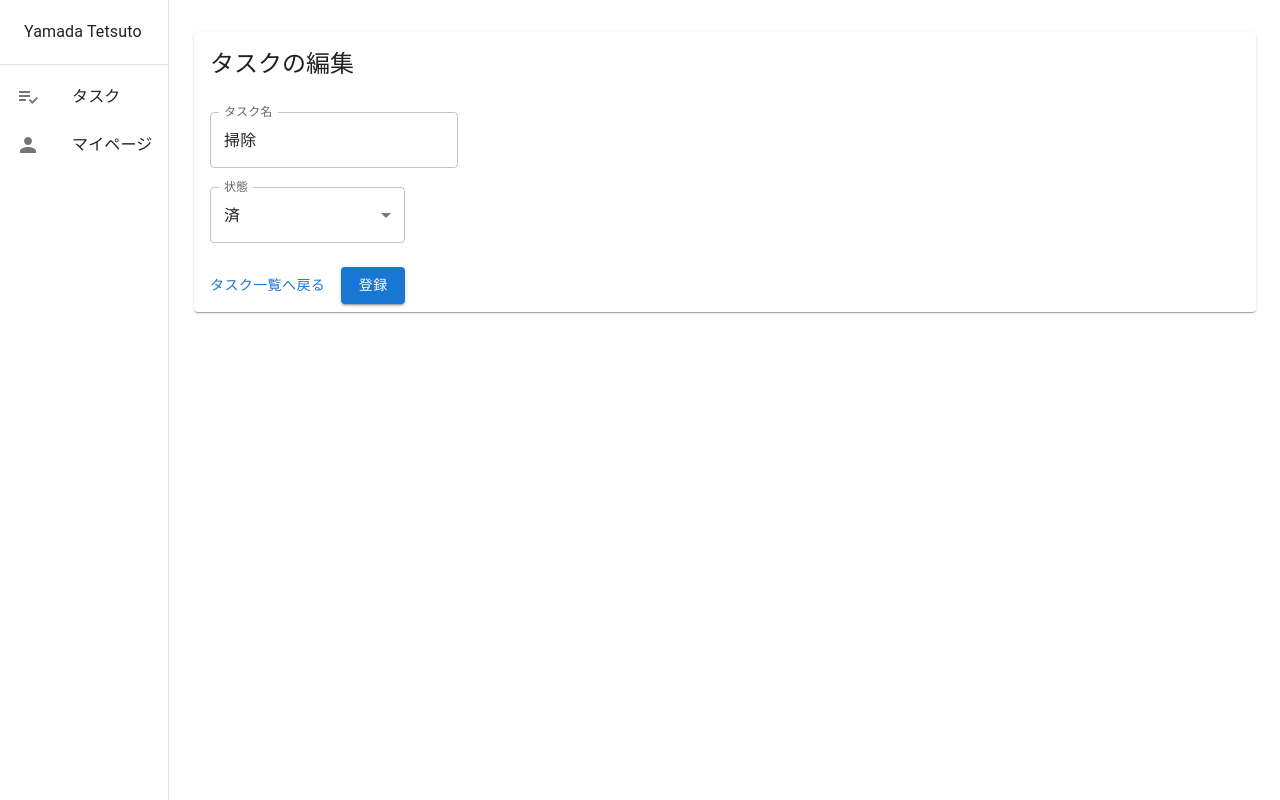
Test: TaskUpdate › 登録失敗したら、エラーが表示される
Replace the text in the field with test id "TaskUpdateName" with "家計簿をつける" at {"x": 334, "y": 140}, box [210, 112, 458, 168]
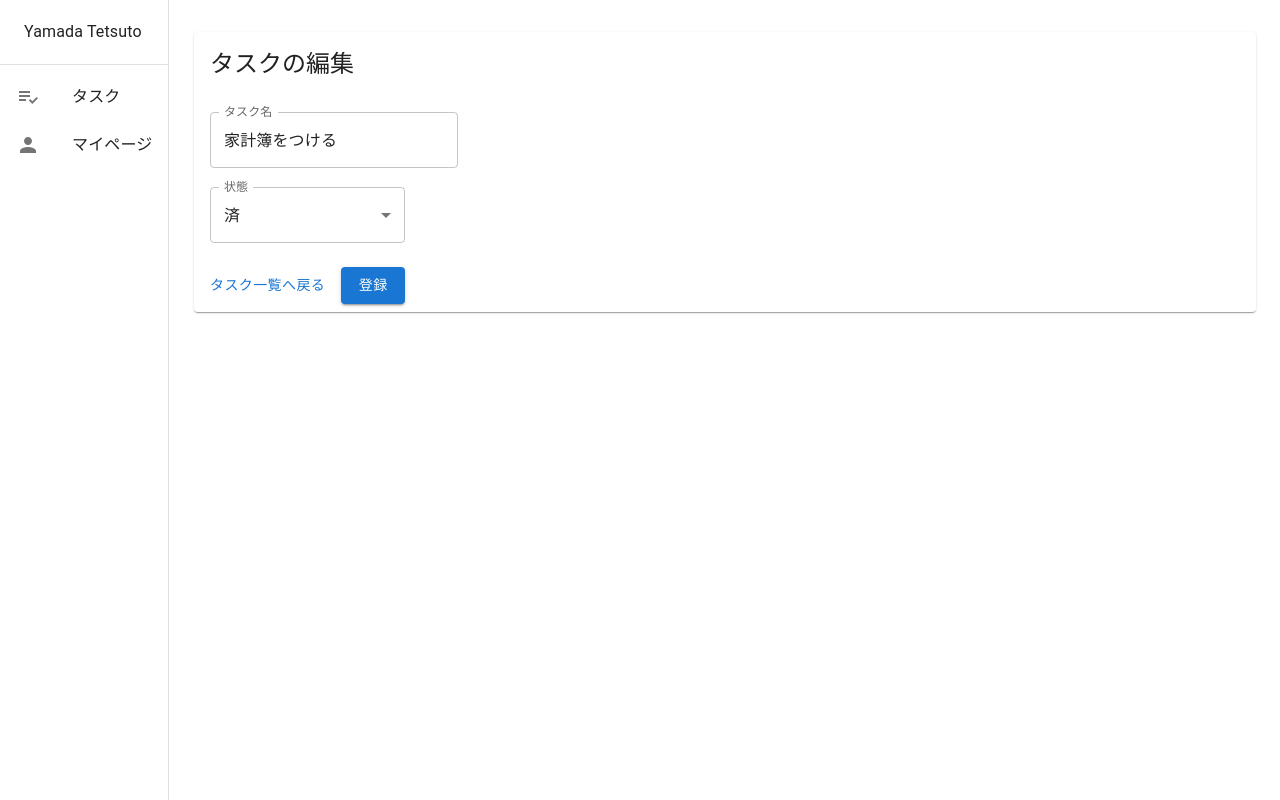
Click the button with test id "TaskUpdateSubmitBtn" at {"x": 373, "y": 285}, box [341, 267, 405, 304]
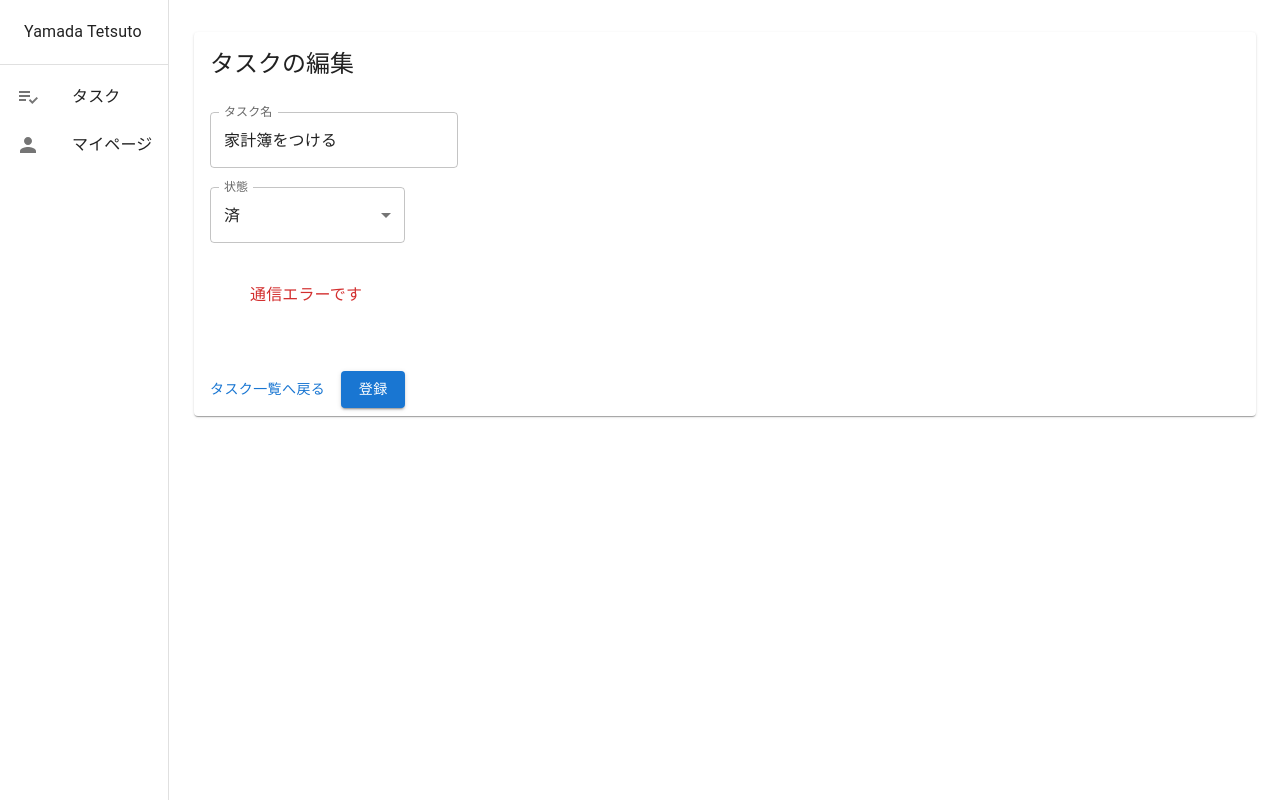
Expected: the text with test id "TaskUpdateErr" reads "通信エラーです", [250, 285, 362, 304]
